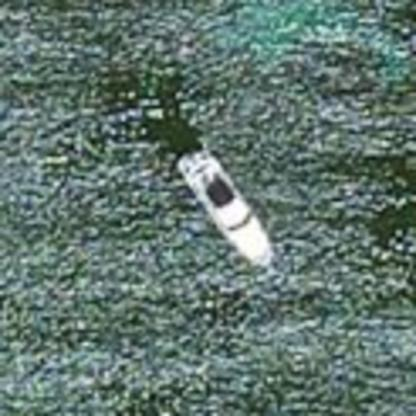ship: (166, 138, 286, 275)
